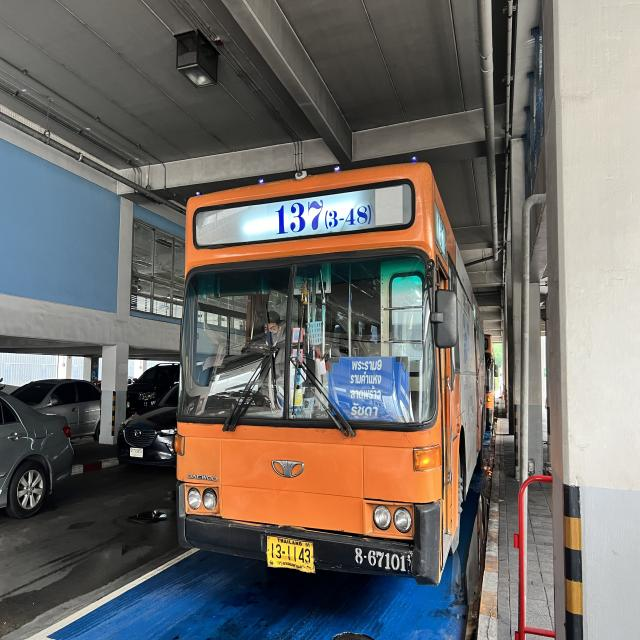BMTA-bus: (174, 161, 485, 588)
Bus-Line-Number: (266, 192, 374, 238)
Destination-Sign-Normal: (327, 354, 409, 422)
